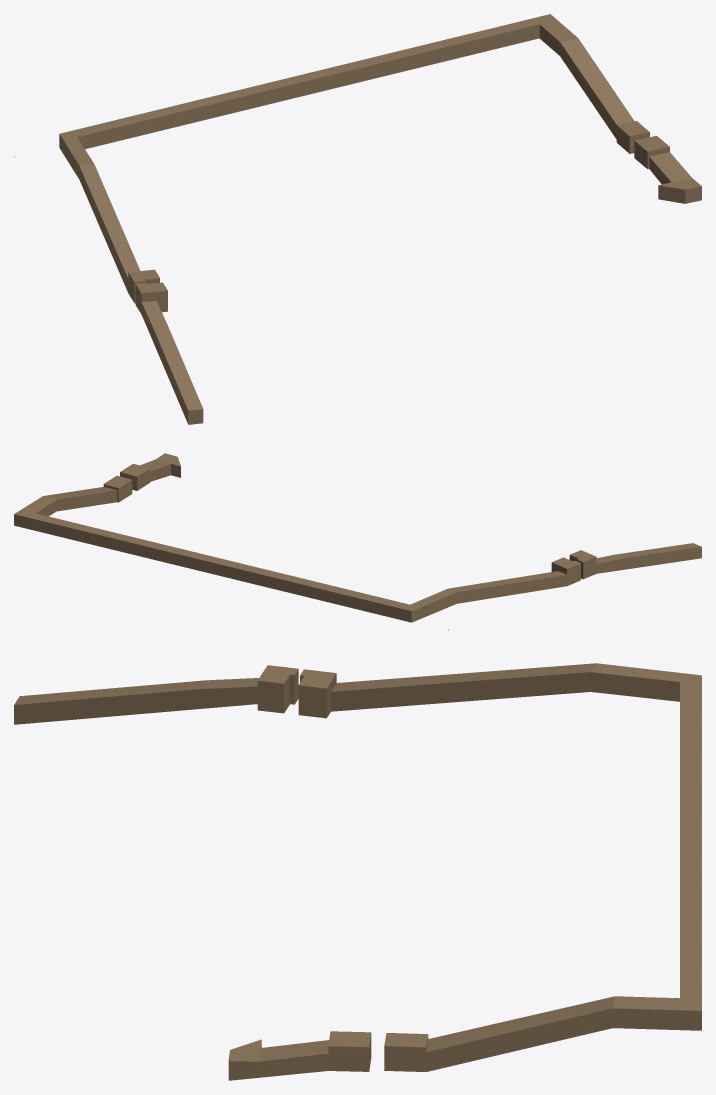
The model's file is Bubastieion.obj.
3 renders of one model, top to bottom at view 1: azimuth 30°, elevation 25°; view 2: azimuth 150°, elevation 25°; view 3: azimuth 270°, elevation 25°, orthographic. The views are drawn at different scales.
Parts seen in each view (by area): view 1: Mesh1 Model, Mesh3 Model, Mesh2 Model; view 2: Mesh1 Model, Mesh3 Model, Mesh2 Model; view 3: Mesh1 Model, Mesh3 Model, Mesh2 Model.
Boxes of the visible parts, bbox=[...] form: Mesh1 Model: bbox=[59, 14, 649, 303]; Mesh3 Model: bbox=[135, 282, 203, 424]; Mesh2 Model: bbox=[634, 136, 701, 203]; Mesh1 Model: bbox=[14, 475, 580, 622]; Mesh3 Model: bbox=[569, 543, 701, 579]; Mesh2 Model: bbox=[120, 453, 180, 490]; Mesh1 Model: bbox=[298, 663, 701, 1071]; Mesh3 Model: bbox=[14, 665, 298, 724]; Mesh2 Model: bbox=[228, 1031, 371, 1080].
Size of the model in its own units: 358 by 48 by 252.
Materials: 2 (2 with a texture image).
